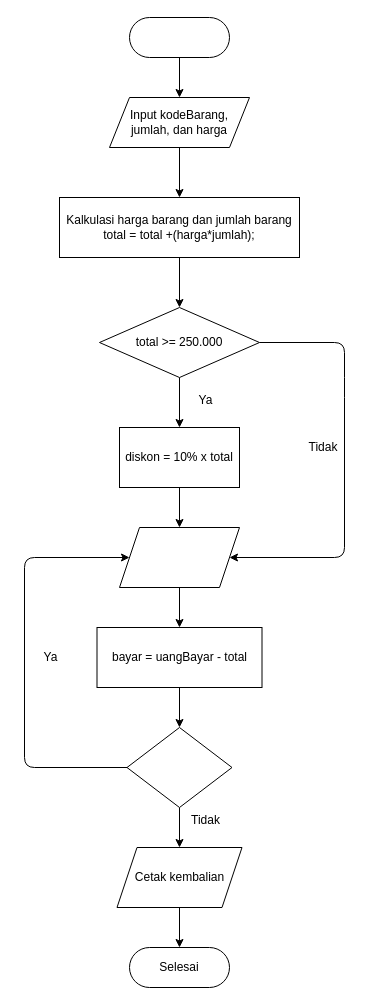
The diagram is 370 pixels wide and 1005 high, and some of its shapes have lost their labels. Each missing label, with the centre of its shape:
bayar < total: the point at 179,767
Masukkan pembayaran: the point at 179,557
Mulai: the point at 179,37
